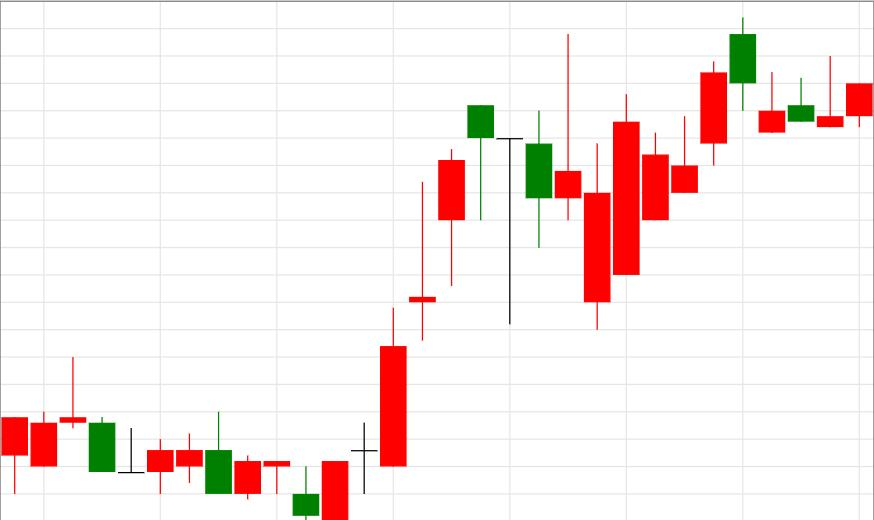hanging_man_fall: (322, 105, 495, 519)
